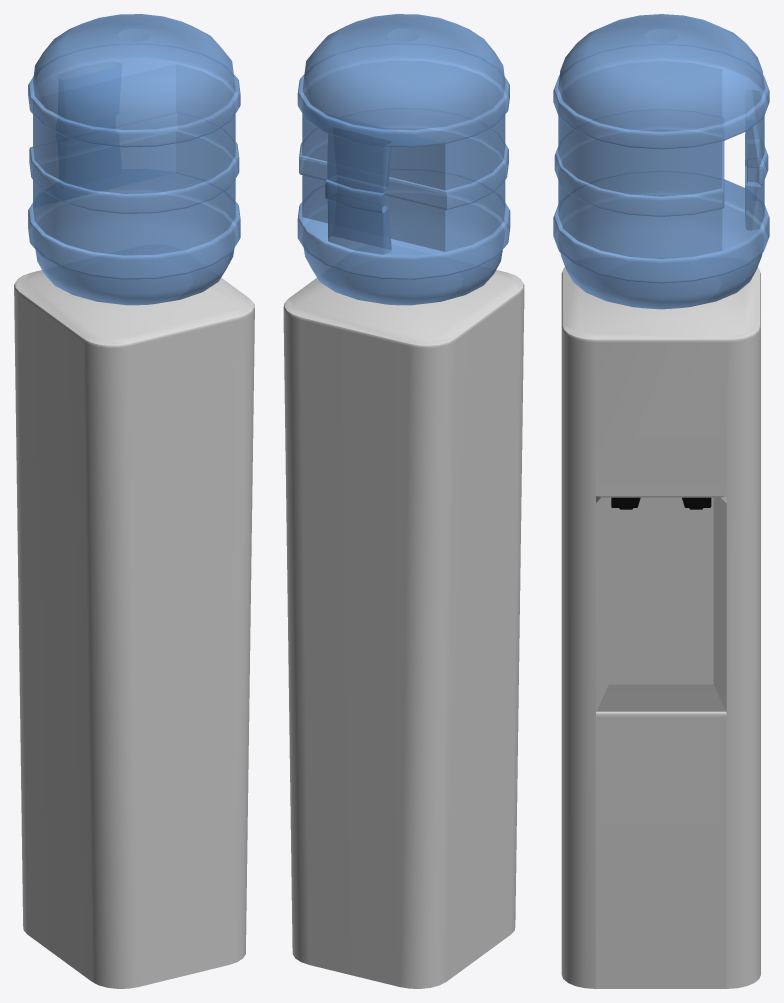
The model's file is Watercooler.fbx.
The picture shows the model from 3 angles, left to right: view 1: azimuth 30°, elevation 25°; view 2: azimuth 150°, elevation 25°; view 3: azimuth 270°, elevation 25°; orthographic projection.
Parts seen in each view (by area): view 1: pCube24, pCylinder44; view 2: pCube24, pCylinder44; view 3: pCube24, pCylinder44.
Part boxes in pixels (x1,y1,x2,y2): pCube24: (14,270,254,988); pCylinder44: (28,14,240,305); pCube24: (283,270,524,988); pCylinder44: (297,14,510,305); pCube24: (561,267,760,988); pCylinder44: (553,14,769,309).
Bounding box in the file's own units: 0.4702 × 2.19 × 0.4702.
